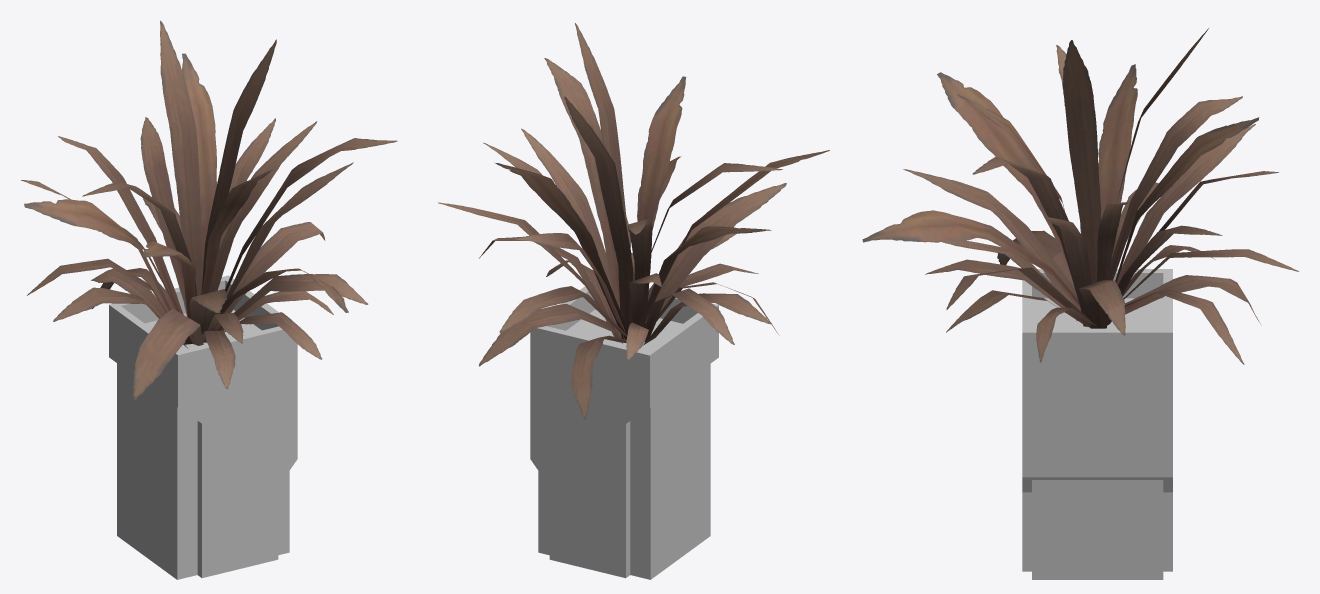
File: SM_Com_Veg_16AS.fbx
3 renders of one model, left to right at view 1: azimuth 30°, elevation 25°; view 2: azimuth 150°, elevation 25°; view 3: azimuth 270°, elevation 25°, orthographic. The views are drawn at different scales.
Visible parts, largest first — view 1: SM_Com_Veg_16AS.mo; view 2: SM_Com_Veg_16AS.mo; view 3: SM_Com_Veg_16AS.mo.
Boxes of the visible parts, left/top/right/bottom form: SM_Com_Veg_16AS.mo: left=21, top=20, right=397, bottom=579; SM_Com_Veg_16AS.mo: left=438, top=23, right=829, bottom=579; SM_Com_Veg_16AS.mo: left=862, top=28, right=1299, bottom=579.
Bounding box in the file's own units: 0.7541 × 1.15 × 0.8425.
